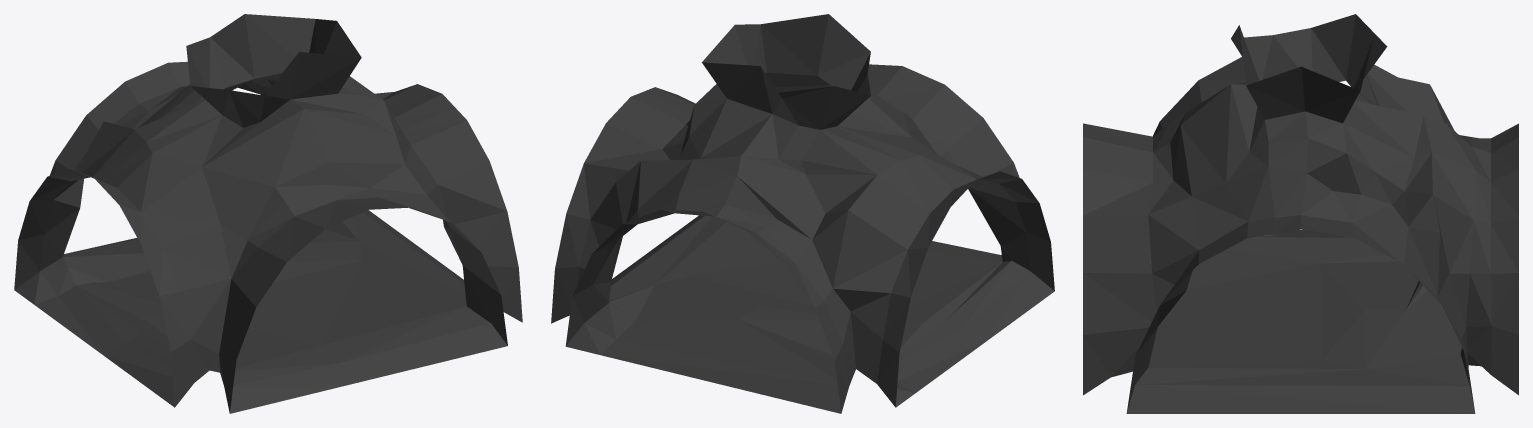
Rendered from Cave_5B_Intersection_LOD_2.fbx.
3 renders of one model, left to right at view 1: azimuth 30°, elevation 25°; view 2: azimuth 150°, elevation 25°; view 3: azimuth 270°, elevation 25°, orthographic. The views are drawn at different scales.
Visible parts, largest first — view 1: polySurface1220; view 2: polySurface1220; view 3: polySurface1220.
Boxes of the visible parts, bbox=[...] form: polySurface1220: bbox=[14, 14, 522, 413]; polySurface1220: bbox=[551, 14, 1054, 413]; polySurface1220: bbox=[1083, 14, 1518, 413].
Size of the model in its own units: 10.32 by 7.8 by 10.32.
